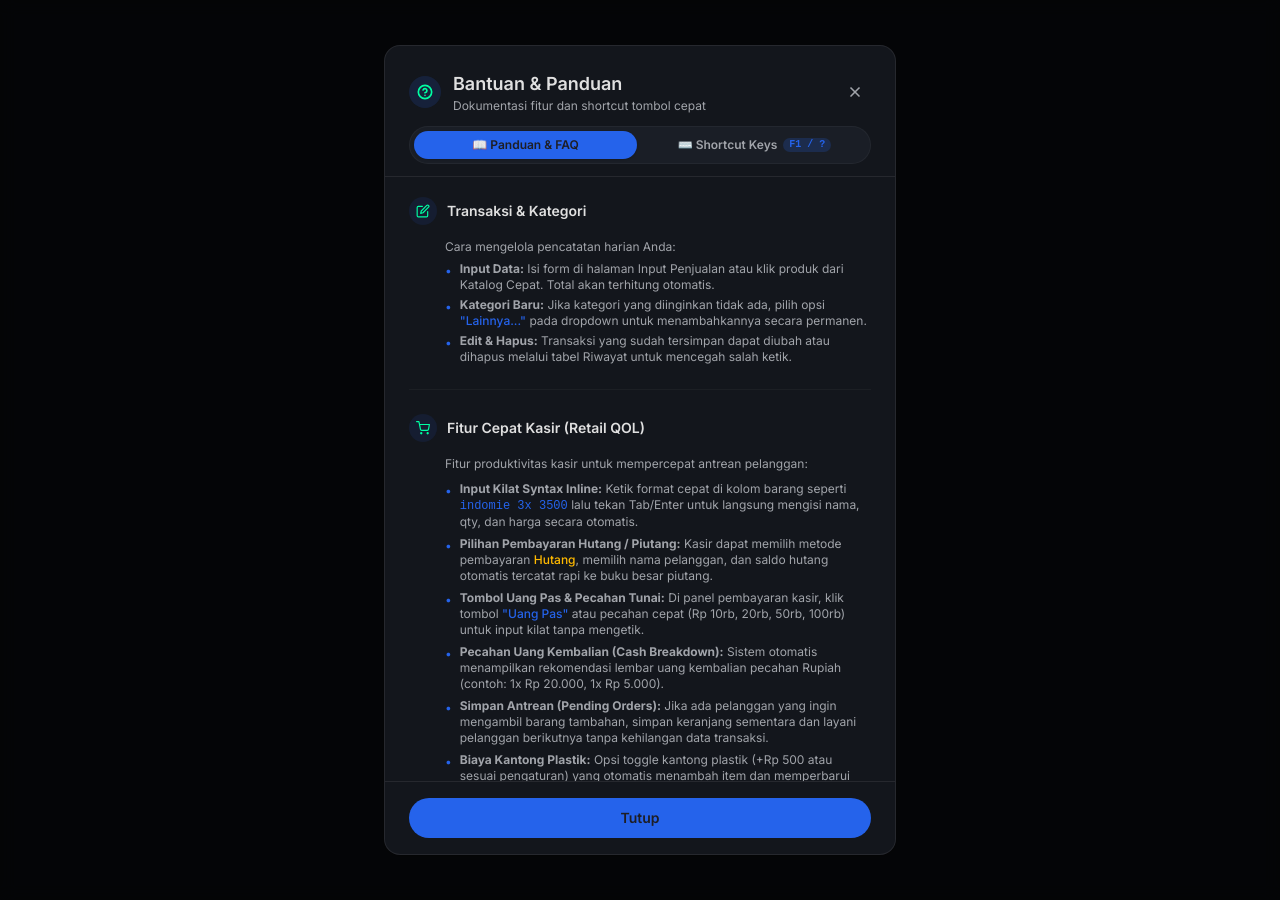
Test case: HelpModal Component › berpindah ke tab Shortcut Keys saat tab shortcut diklik
Click the tab "⌨️ Shortcut Keys F1 / ?": {"x": 754, "y": 145} x1=643 y1=131 x2=866 y2=159
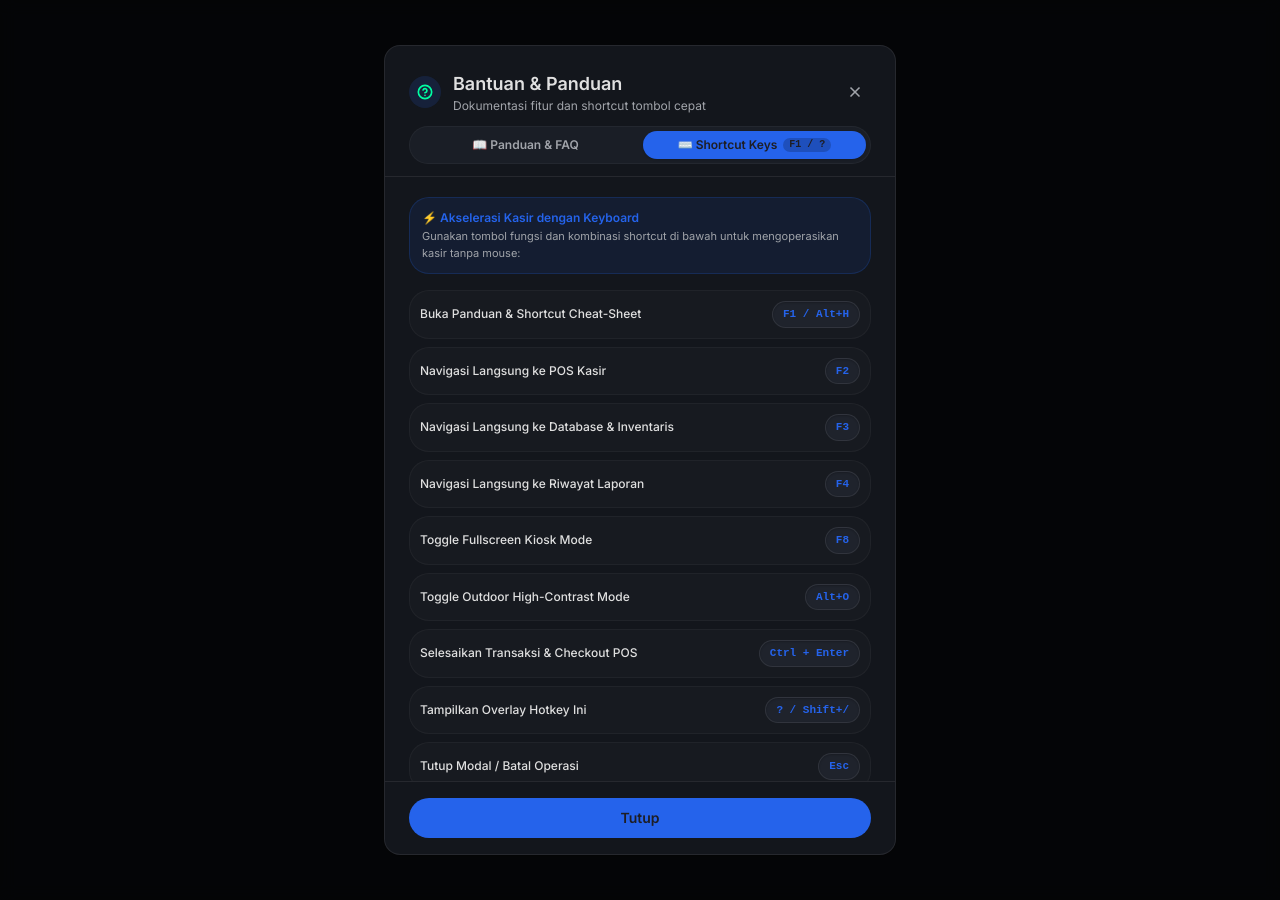
Result: the text "⚡ Akselerasi Kasir dengan Keyboard" is shown at x1=422 y1=210 x2=639 y2=225
Result: the text "Navigasi Langsung ke POS Kasir" is shown at x1=420 y1=363 x2=606 y2=379
Result: the text "F2" is shown at x1=825 y1=358 x2=860 y2=384
